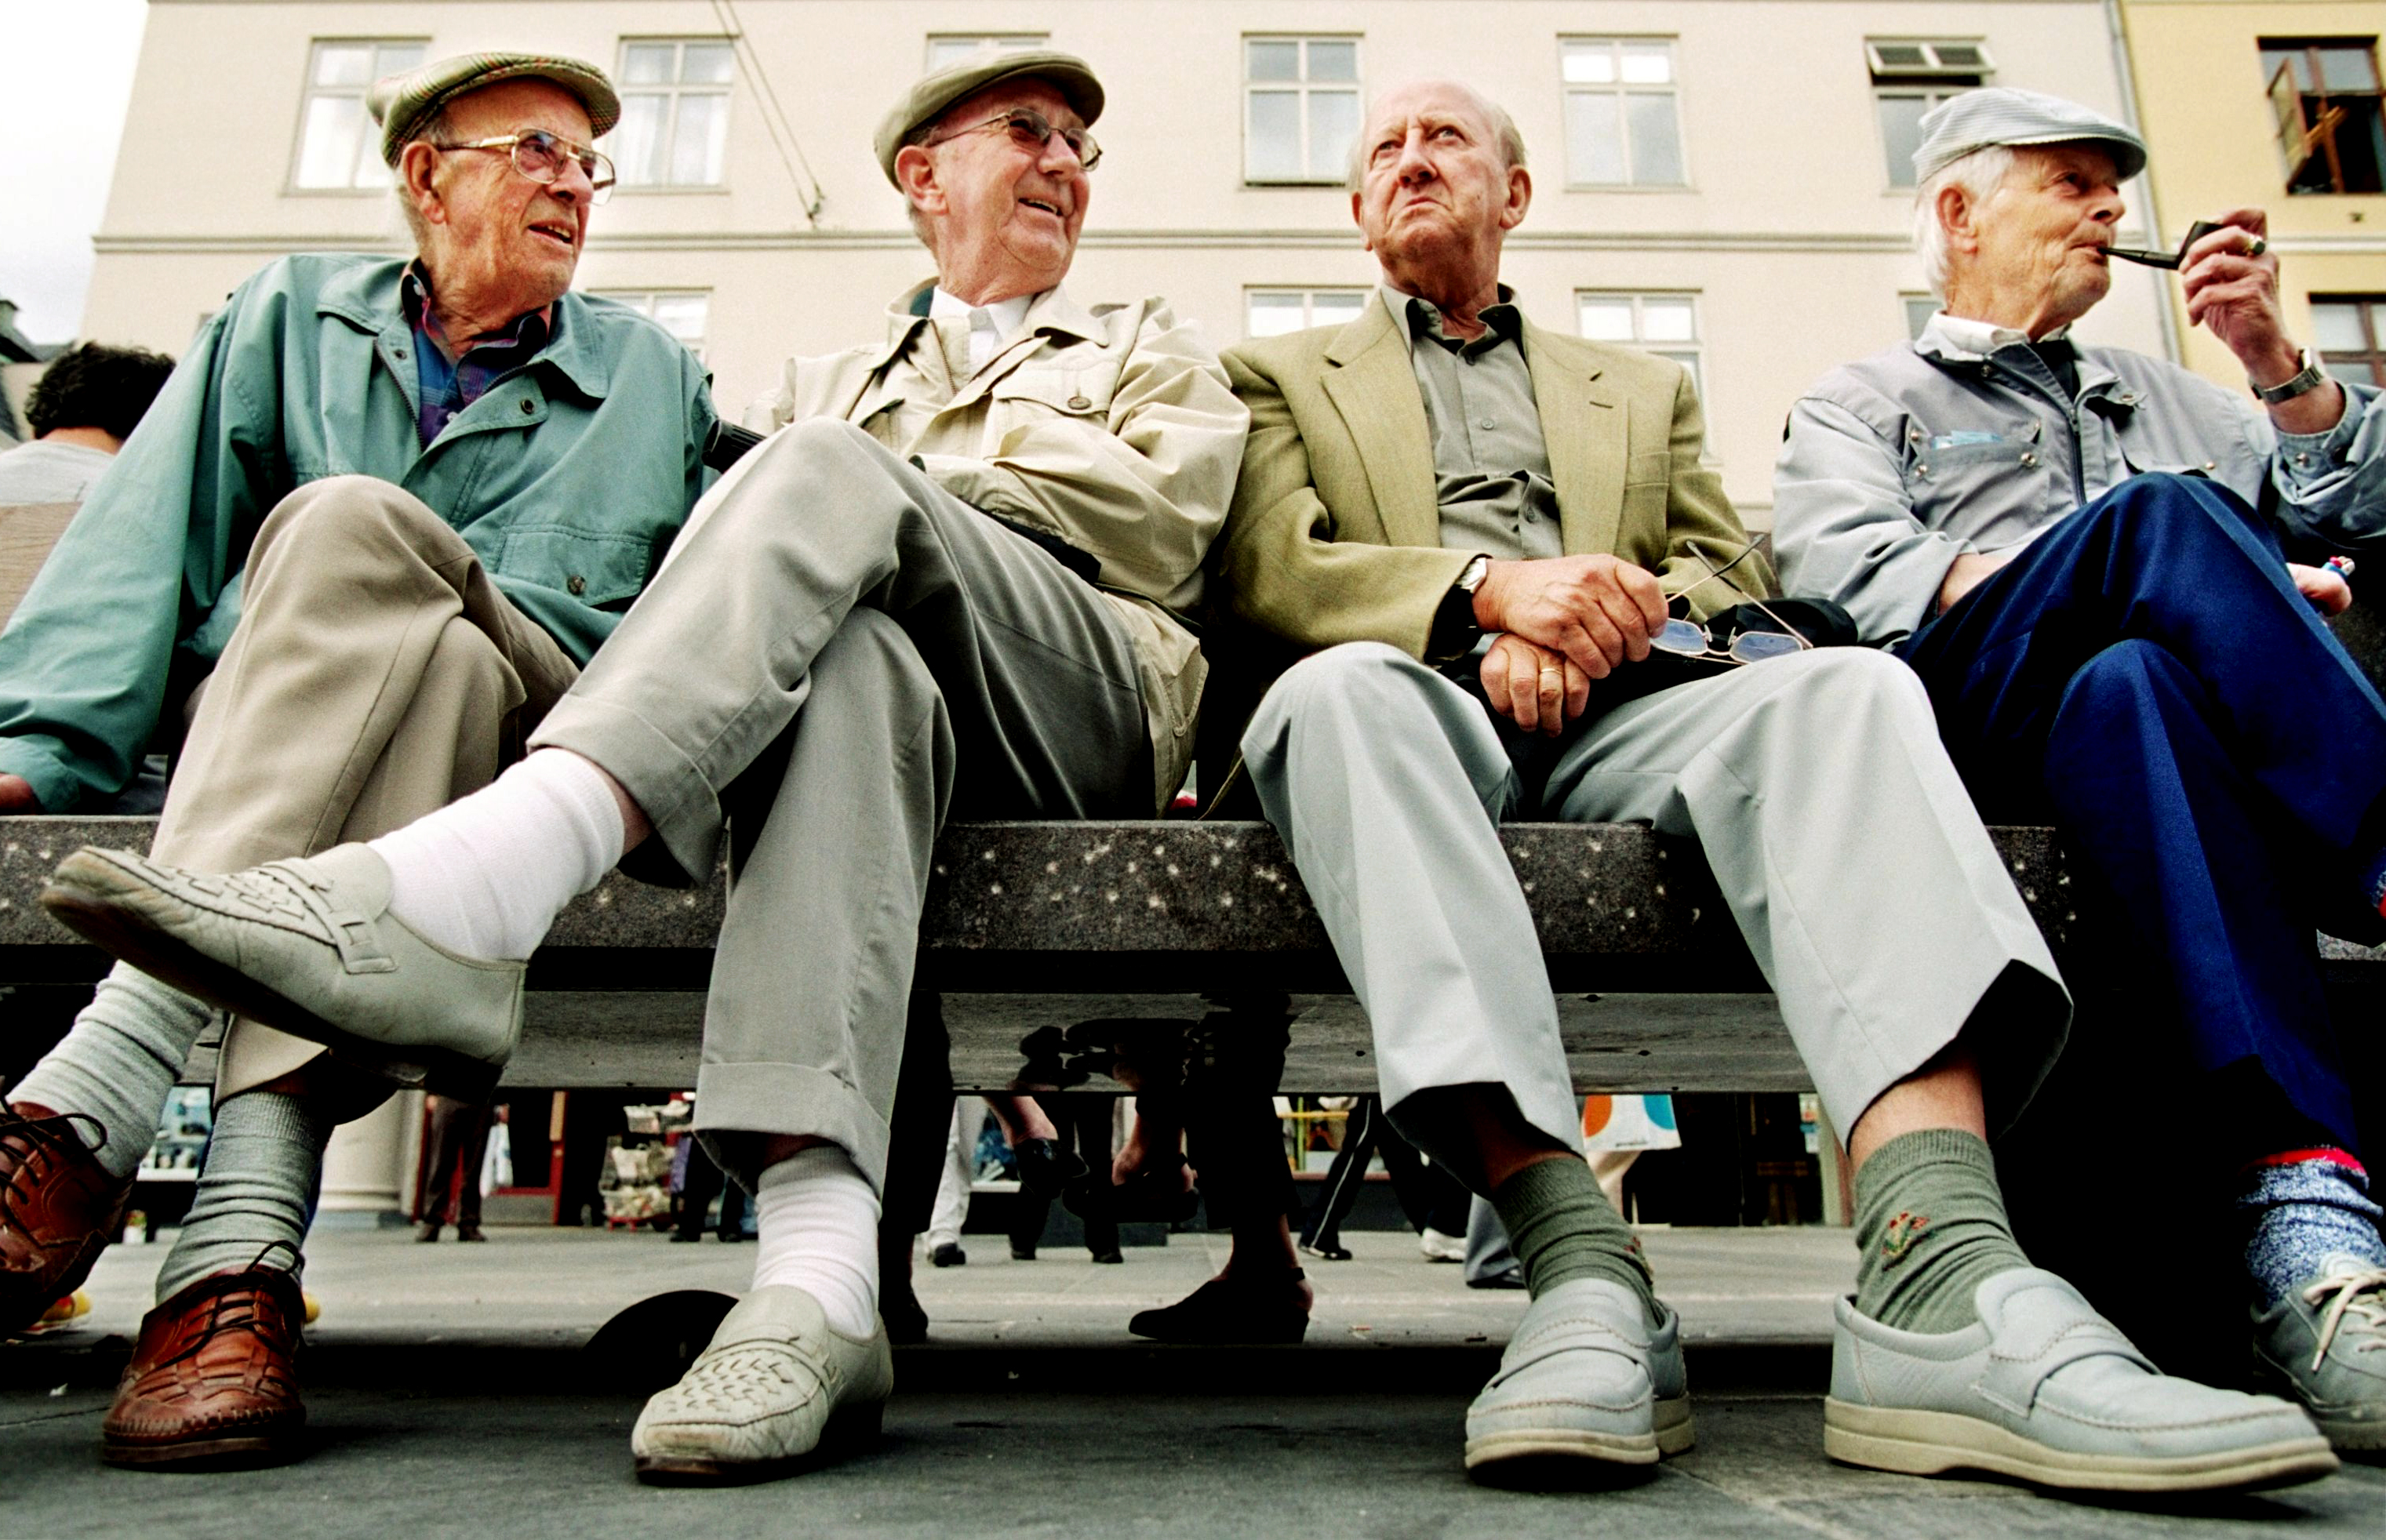Person: (1155, 68, 2359, 1540), (49, 42, 1243, 1484), (27, 38, 726, 1540), (1744, 38, 2386, 1476)
